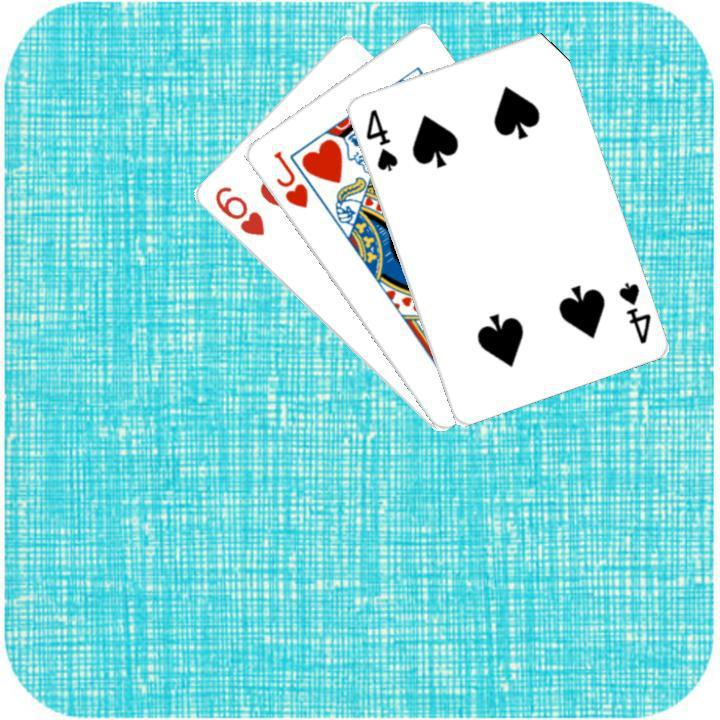4: (360, 104, 400, 173), (613, 277, 652, 346)
6: (209, 182, 266, 238)
J: (268, 146, 310, 210)
